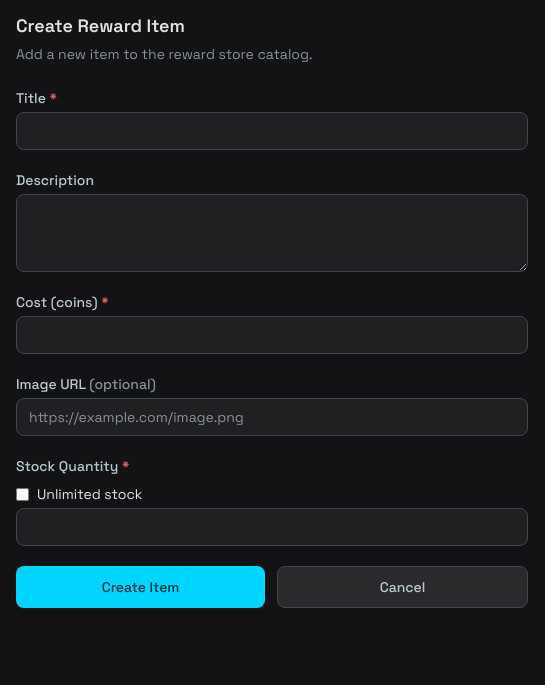
Test: RewardItemForm › shows validation errors when invalid values submitted
// Leave all fields empty and submit
What coordinates should you click on to do the following:
click the button "Create Item"
I would click on:
 (140, 587)
Its box is [16,566,265,608].
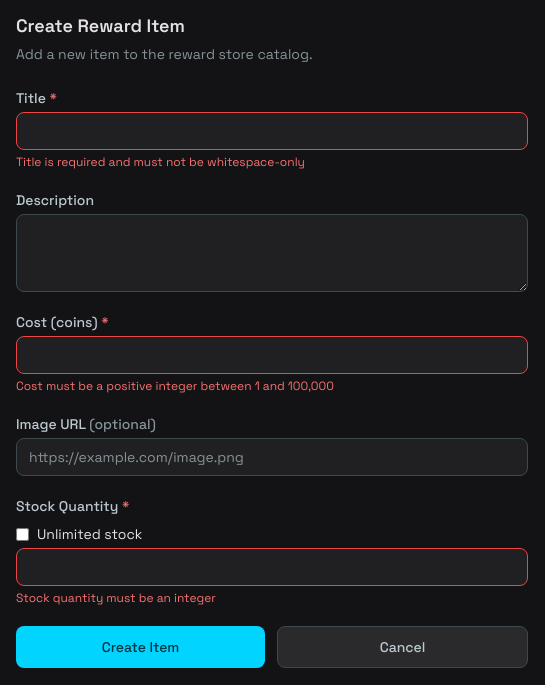
Expected: the text "Title is required and must not be whitespace-only" is shown, [16,154,305,170]
Expected: the text "Cost must be a positive integer between 1 and 100,000" is shown, [16,378,334,394]
Expected: the text "Stock quantity must be an integer" is shown, [16,590,216,606]
